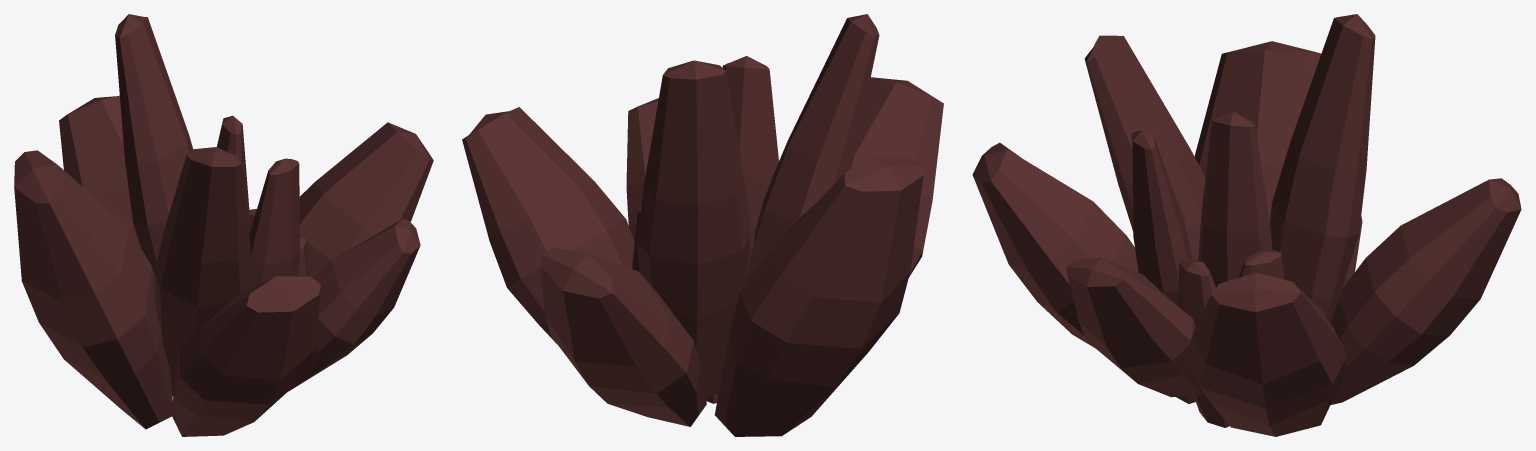
Rendered from Uremia.fbx.
3 renders of one model, left to right at view 1: azimuth 30°, elevation 25°; view 2: azimuth 150°, elevation 25°; view 3: azimuth 270°, elevation 25°, orthographic. The views are drawn at different scales.
Visible parts, largest first — view 1: Uremia; view 2: Uremia; view 3: Uremia.
Part boxes in pixels (x1=…): Uremia: x1=14, y1=14, x2=433, y2=436; Uremia: x1=462, y1=14, x2=943, y2=436; Uremia: x1=972, y1=14, x2=1521, y2=436.
Size of the model in its own units: 44.92 by 38.55 by 50.41.
